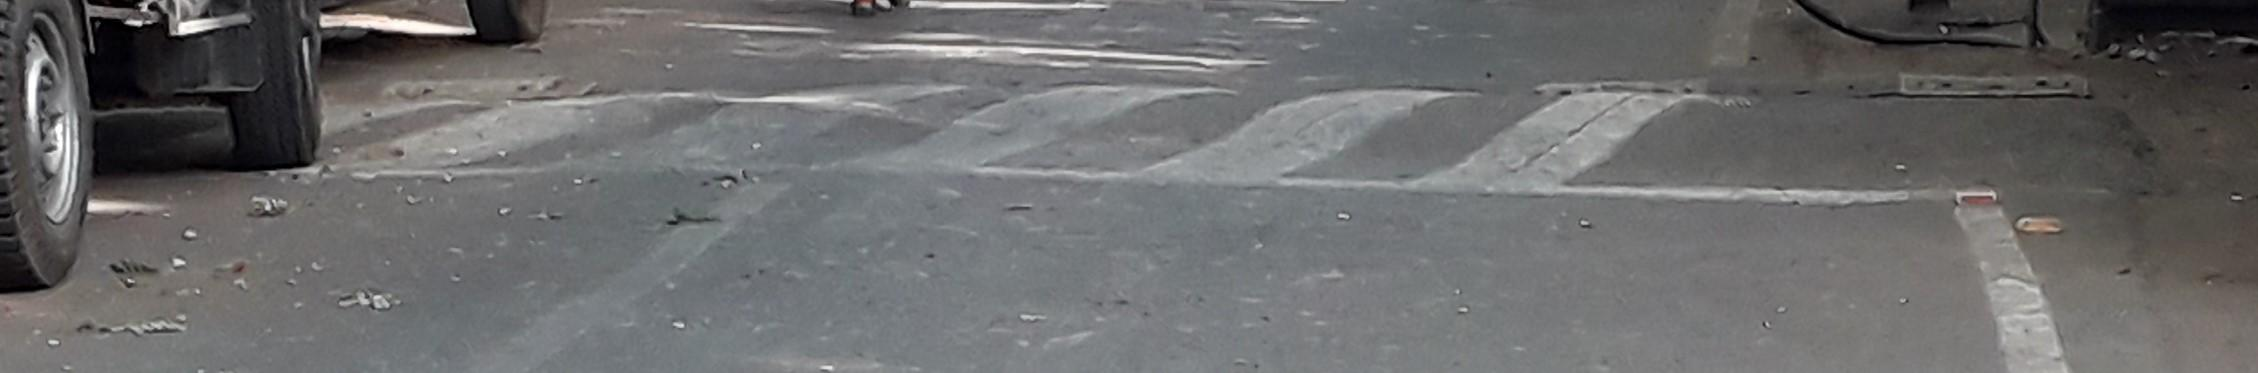speed-bump: (308, 60, 2112, 185)
